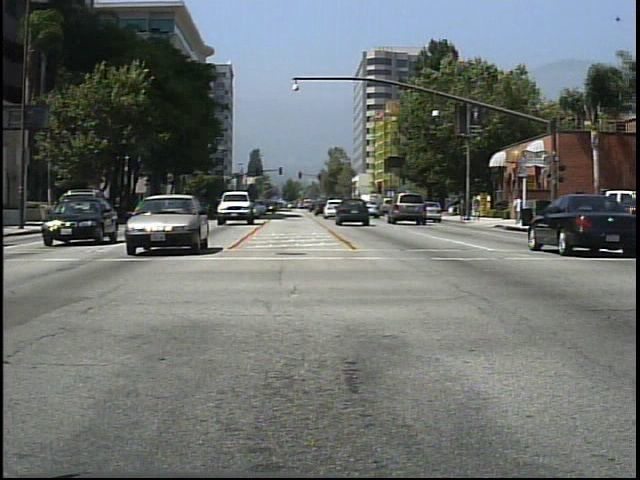person: (510, 192, 523, 226), (471, 190, 483, 223)
